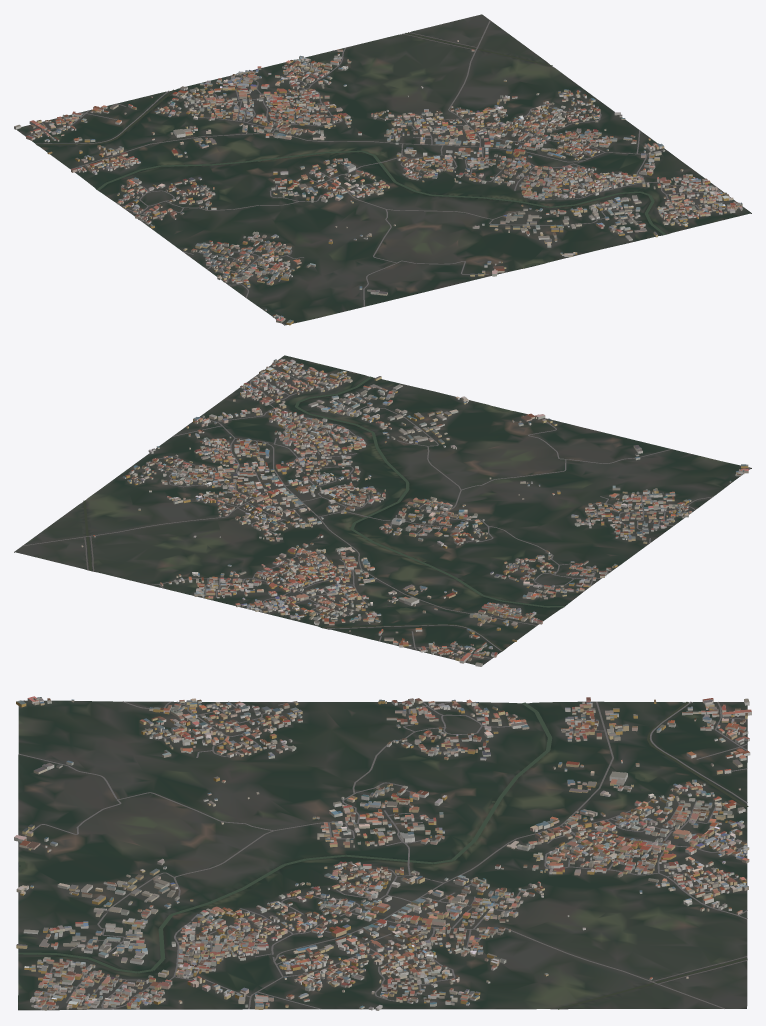
3 views of the same model, one above another, from view 1: azimuth 30°, elevation 25°; view 2: azimuth 150°, elevation 25°; view 3: azimuth 270°, elevation 25° (orthographic). The views are drawn at different scales.
Parts seen in each view (by area): view 1: ground, buildings, roads, water; view 2: ground, buildings, roads, water; view 3: ground, buildings, roads, water.
Part boxes in pixels (x1,y1,x2,y2): ground: (14, 14, 751, 325); buildings: (14, 40, 742, 325); roads: (25, 20, 743, 324); water: (36, 33, 665, 267); ground: (14, 355, 751, 665); buildings: (81, 359, 748, 666); roads: (22, 370, 750, 659); water: (83, 376, 564, 650); ground: (18, 700, 747, 1010); buildings: (14, 696, 751, 1010); roads: (18, 700, 747, 1010); water: (18, 702, 748, 1009).
Size of the model in its own units: 1415 by 17.98 by 1419.
